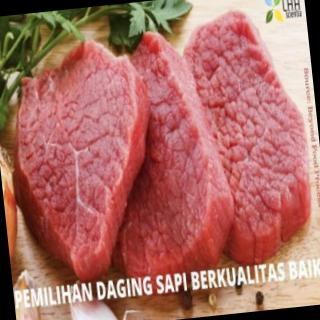Daging Sapi: (83, 25, 241, 280), (8, 39, 157, 282), (183, 9, 320, 265)
